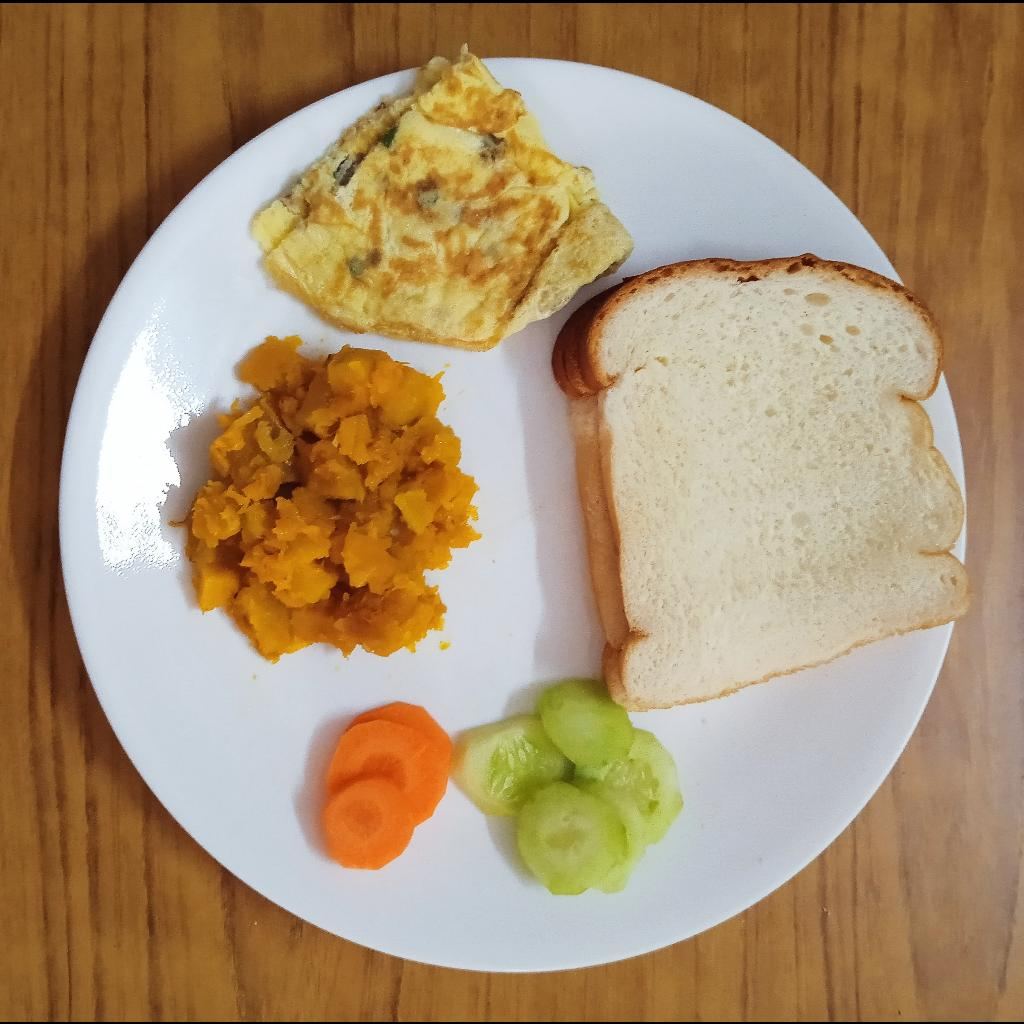bread: (546, 248, 980, 714)
carrot: (315, 698, 455, 874)
cucumber: (465, 678, 684, 899)
egg: (252, 43, 637, 350)
kumra-vaji: (178, 328, 481, 663)
